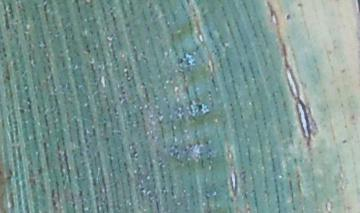tarspot: (192, 102, 204, 112), (282, 11, 292, 21), (341, 136, 349, 147), (296, 1, 305, 10)
